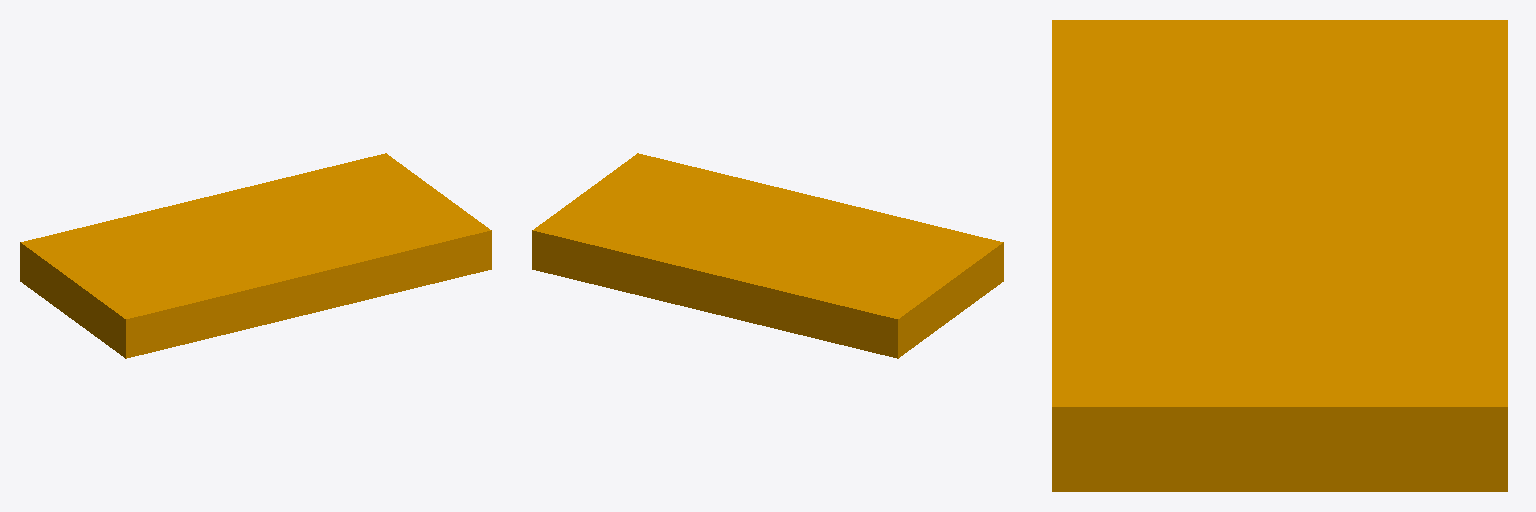
URDF robot description (surface):
<?xml version="1.0"?>
<robot name="surface">
  <link name="base_link">

    <collision>
      <geometry>
        <box size="9.75 4.87 1"/>
      </geometry>
    </collision>

    <inertial>
      <mass value="50"/>
    	<inertia ixx="108" ixy="0" ixz="0" iyy="421" iyz="0" izz="521"/>
  	</inertial>

    <visual>
      <geometry>
        <box size="9.75 4.87 1"/>
      </geometry>
    </visual>

  </link>
</robot>

--- What the picture shows (computed from the rendered views, not written in the file) ---
Views: 3 orthographic renders of the robot side by side, from view 1: azimuth 30°, elevation 25°; view 2: azimuth 150°, elevation 25°; view 3: azimuth 270°, elevation 25°.
Robot: surface — 1 links, 0 joints (none); root link base_link; default pose: all joints at 0.
Links seen in each view (by area): view 1: base_link; view 2: base_link; view 3: base_link.
Link boxes in pixels (bbox=[...]): base_link: bbox=[20, 153, 491, 358]; base_link: bbox=[532, 153, 1003, 358]; base_link: bbox=[1052, 20, 1507, 491].
Bounding box of the posed robot: 9.75 × 4.87 × 1 m (x, y, z).
Geometry: primitives only (box / cylinder / sphere), no mesh files.